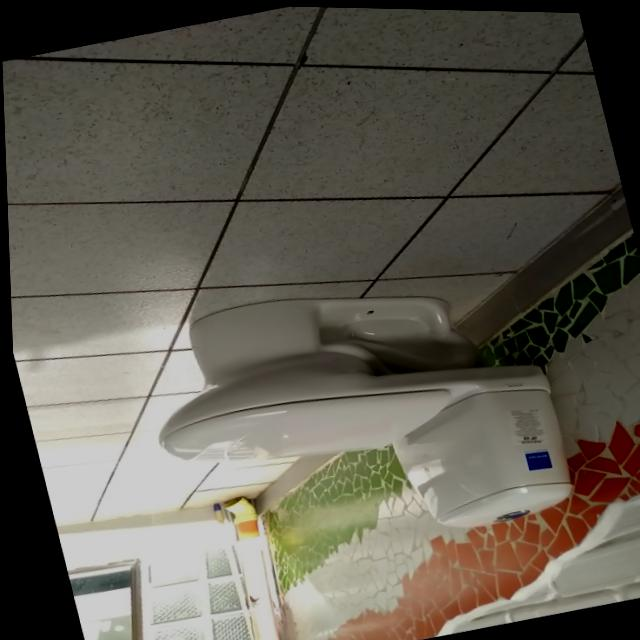toilet: (124, 243, 580, 589)
